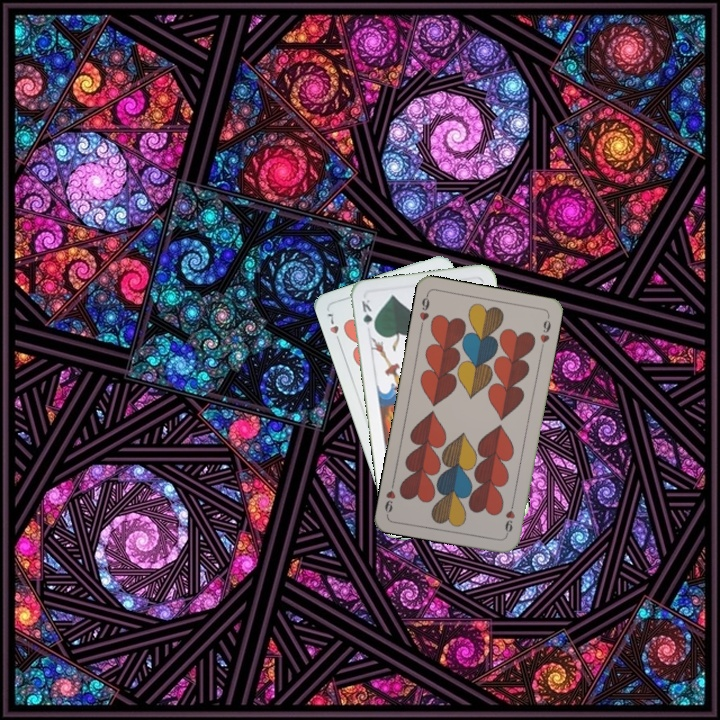GK: (358, 295, 378, 334)
H7: (323, 308, 343, 347)
H9: (415, 290, 432, 331), (501, 498, 517, 538)
